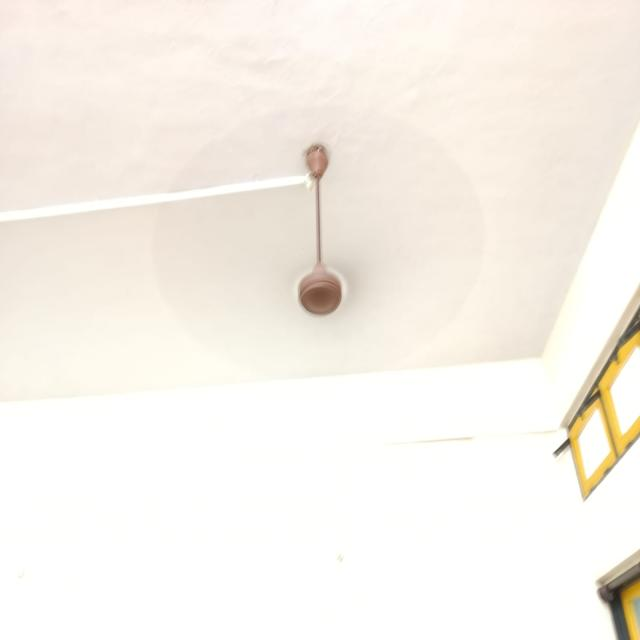fan_on: (147, 104, 493, 376)
